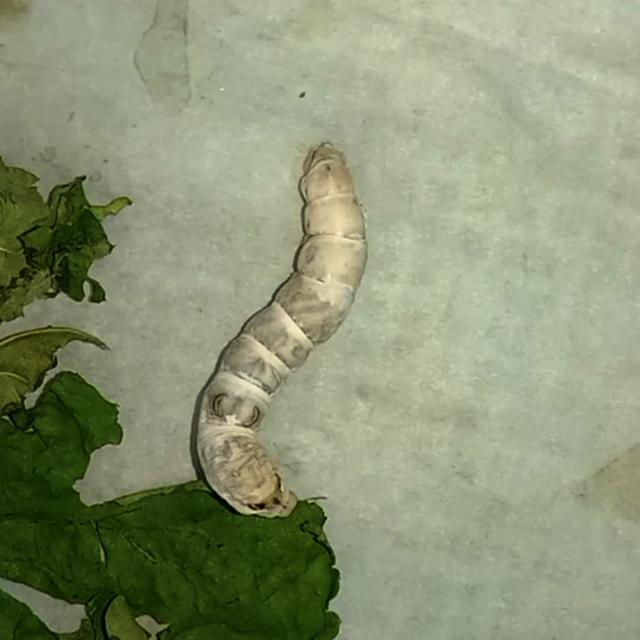Grasserie: (181, 88, 382, 538)
